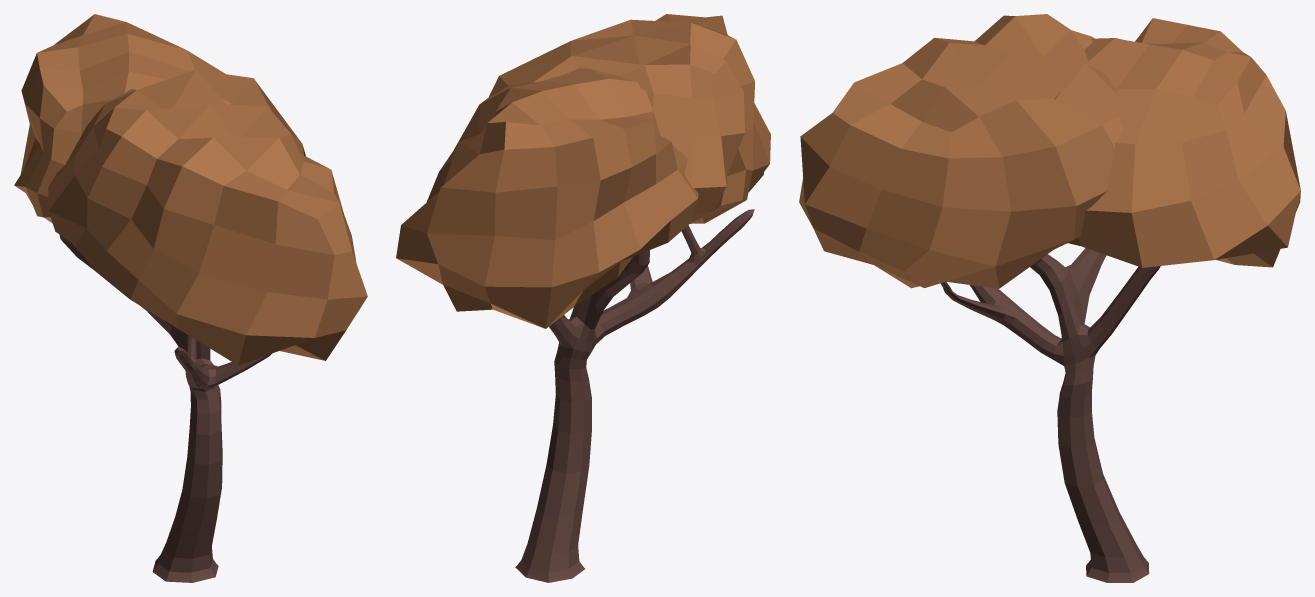
Rendered from CommonTree_Autumn_5.gltf.
3 views of the same model, side by side, from view 1: azimuth 30°, elevation 25°; view 2: azimuth 150°, elevation 25°; view 3: azimuth 270°, elevation 25° (orthographic). The views are drawn at different scales.
Parts seen in each view (by area): view 1: CommonTree_Autumn_5; view 2: CommonTree_Autumn_5; view 3: CommonTree_Autumn_5.
Part boxes in pixels (x1,y1,x2,y2): CommonTree_Autumn_5: [14, 14, 367, 582]; CommonTree_Autumn_5: [396, 14, 770, 582]; CommonTree_Autumn_5: [799, 14, 1300, 582].
Size of the model in its own units: 1.29 by 2.53 by 2.25.
